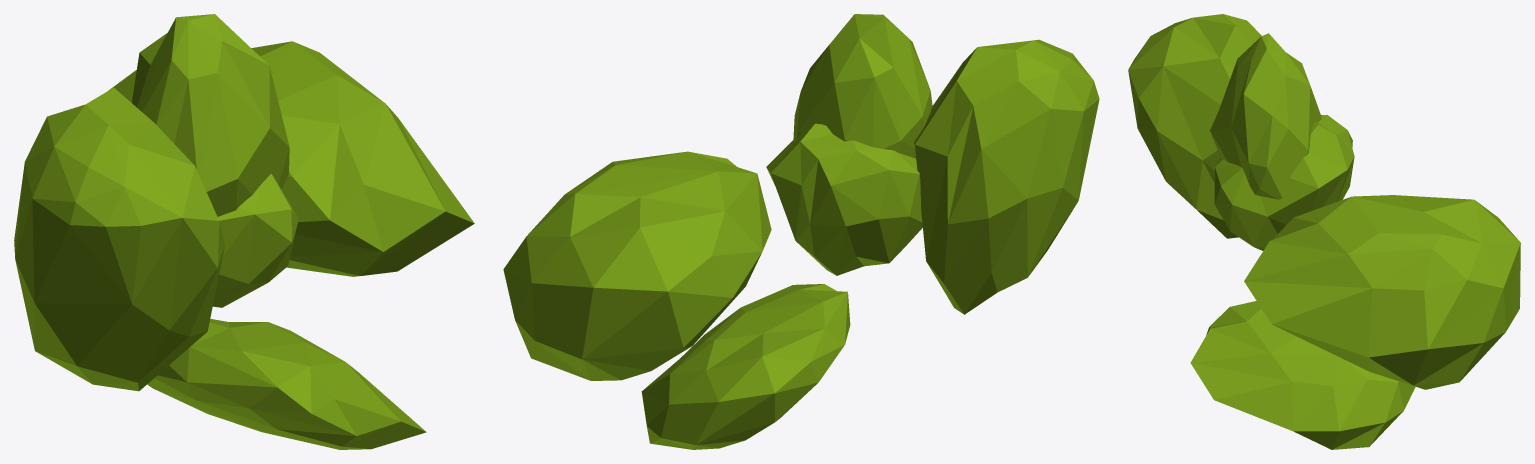
The model's file is tree-summer-leaves-6-050.glb.
3 renders of one model, left to right at view 1: azimuth 30°, elevation 25°; view 2: azimuth 150°, elevation 25°; view 3: azimuth 270°, elevation 25°, orthographic. The views are drawn at different scales.
Parts seen in each view (by area): view 1: TREE 6_298; view 2: TREE 6_298; view 3: TREE 6_298.
Part boxes in pixels (x1=…): TREE 6_298: x1=14, y1=14, x2=474, y2=449; TREE 6_298: x1=503, y1=14, x2=1099, y2=449; TREE 6_298: x1=1128, y1=14, x2=1520, y2=449.
Bounding box in the file's own units: 0.9337 × 0.8573 × 0.8774.
